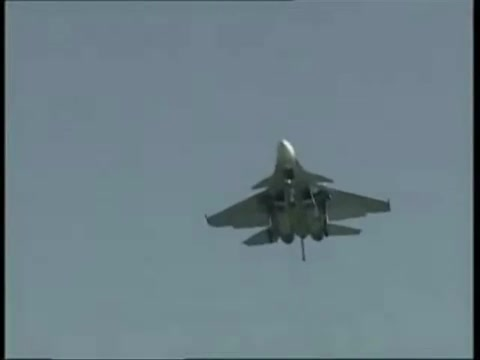aeroplane: (203, 137, 393, 266)
